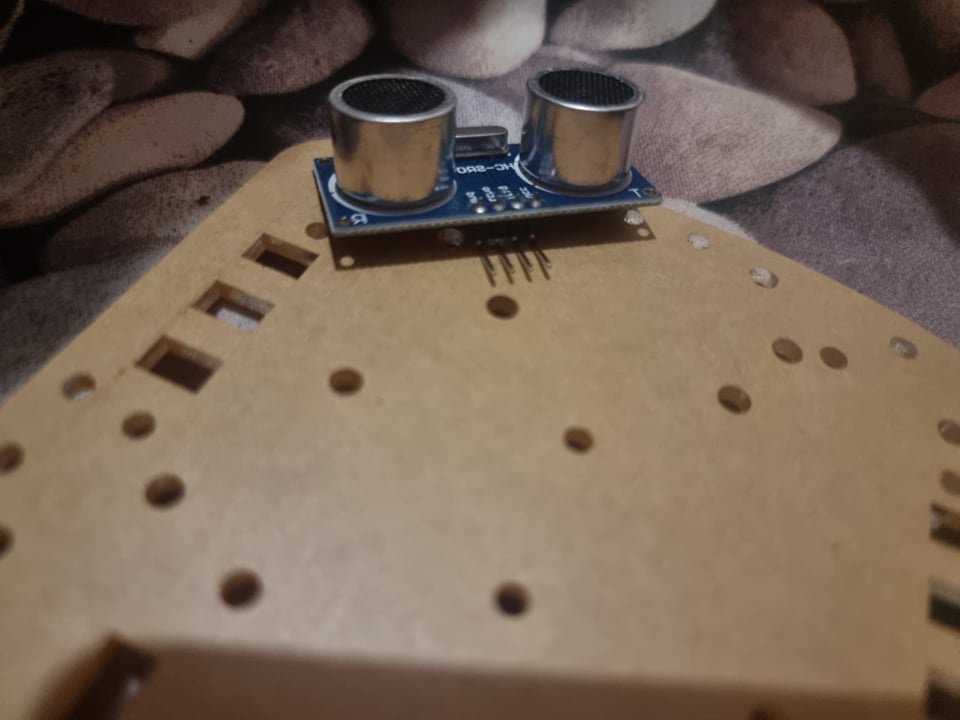SENSOR: (309, 63, 664, 238)
